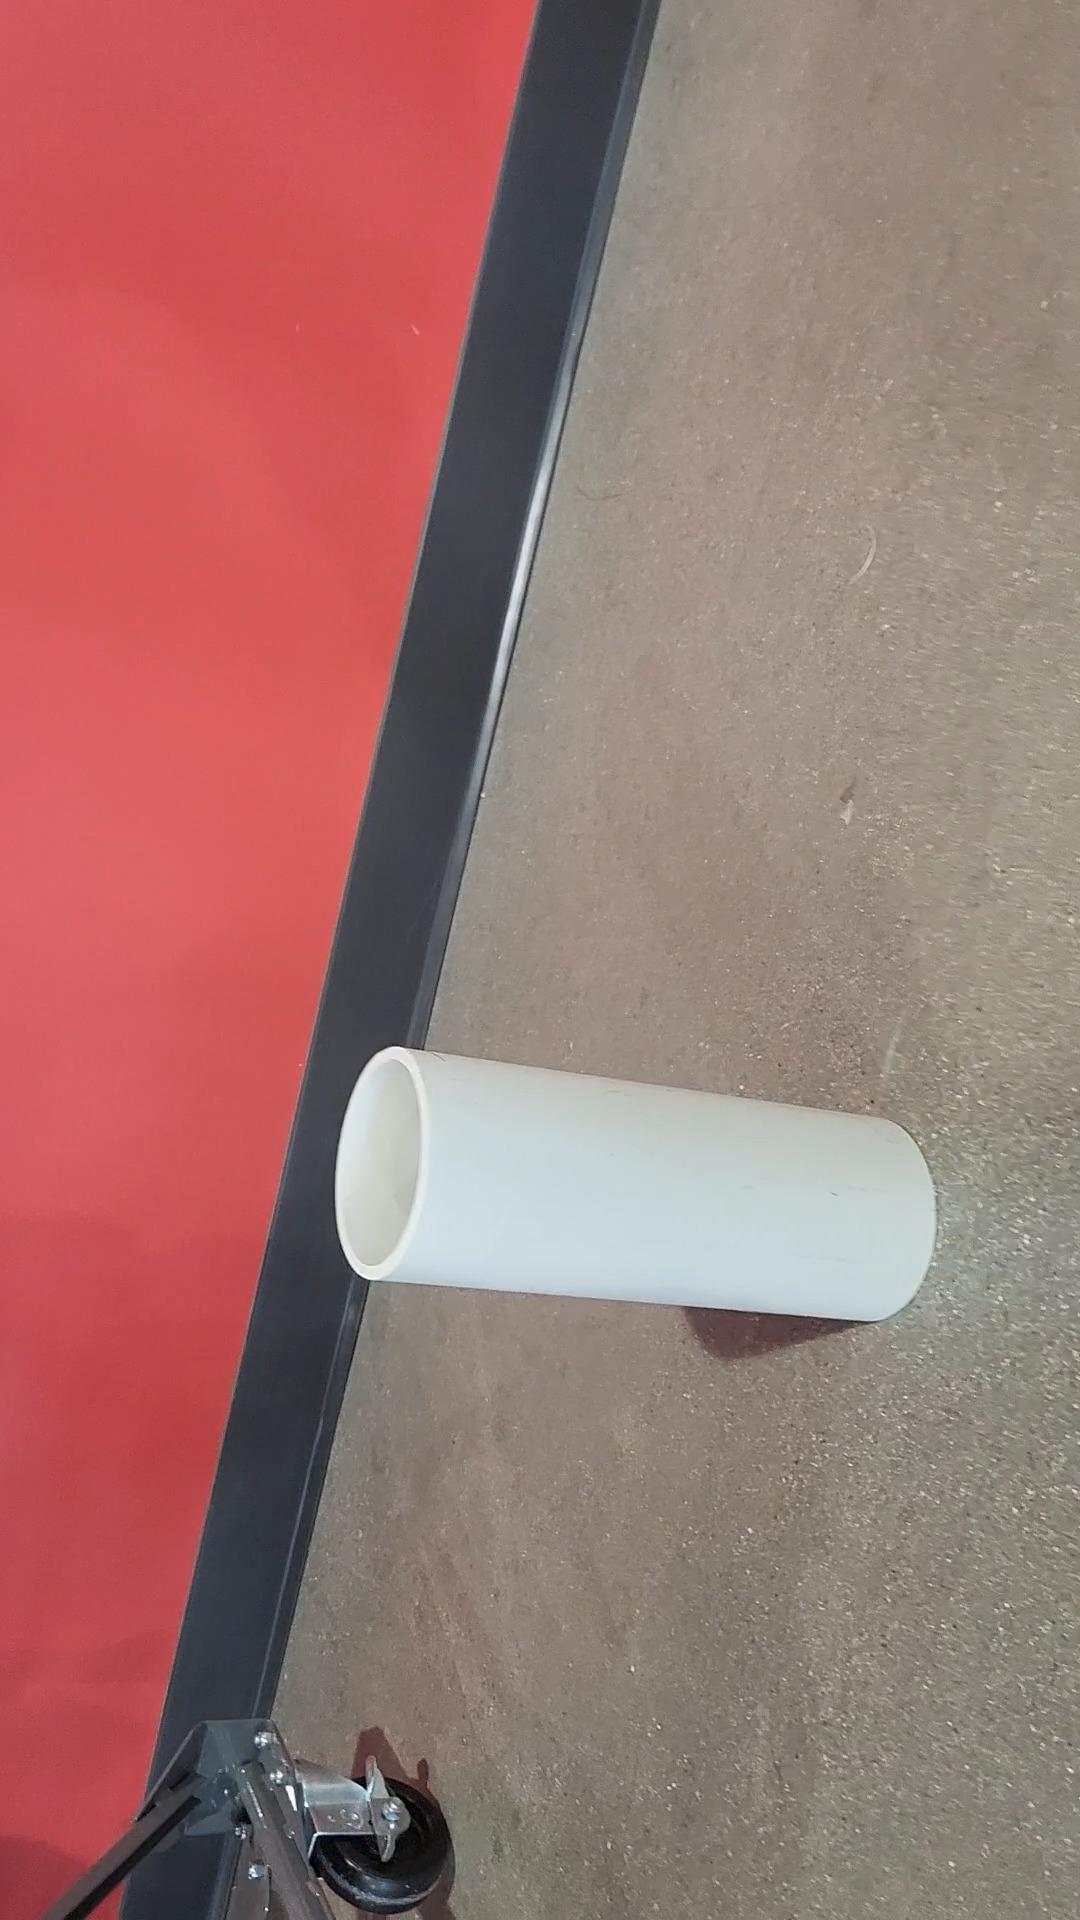coral: (340, 1044, 935, 1328)
